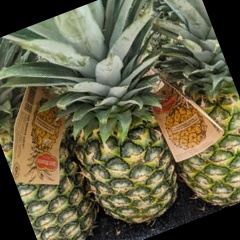Pineapple: (32, 25, 184, 224)
